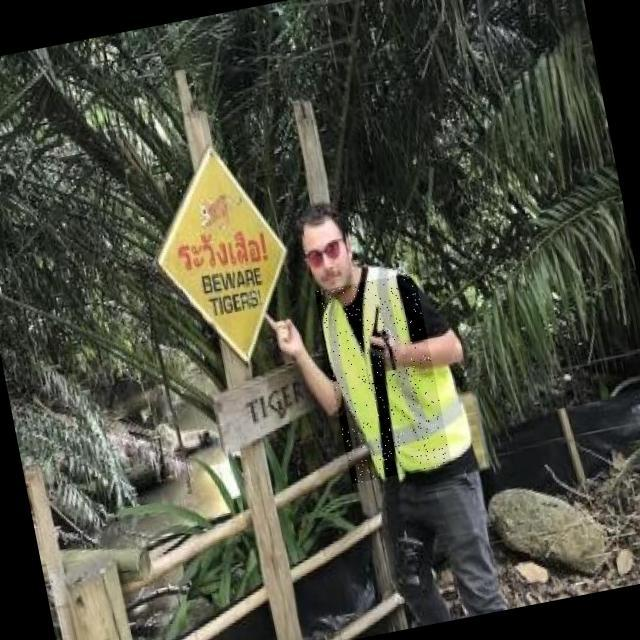Person: (238, 167, 527, 640)
Safety Vest: (315, 272, 453, 484)
bare-arms: (253, 295, 315, 369), (365, 318, 411, 371)
no-helmet: (288, 195, 354, 243)
